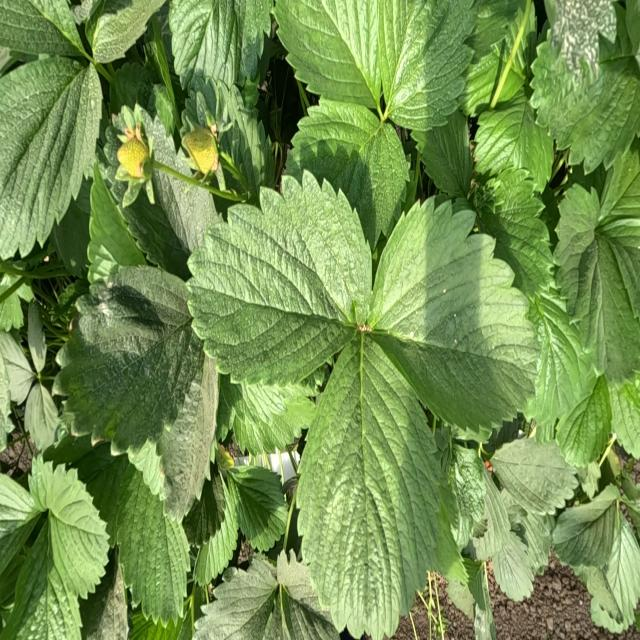Leaves: (297, 341, 441, 639), (188, 171, 372, 385), (373, 199, 535, 428), (56, 266, 204, 453), (0, 56, 102, 259), (283, 100, 409, 252), (531, 26, 640, 174), (128, 358, 218, 520), (378, 0, 476, 132), (275, 0, 381, 108), (29, 457, 109, 599), (117, 471, 190, 623), (121, 169, 219, 279), (569, 232, 640, 381), (2, 517, 81, 639), (478, 172, 552, 298), (474, 89, 553, 200), (576, 500, 640, 633), (193, 556, 276, 639), (491, 438, 578, 514), (169, 0, 244, 88), (553, 485, 624, 569), (413, 109, 473, 197), (226, 466, 288, 550), (197, 480, 239, 585), (0, 473, 41, 574), (554, 185, 599, 267), (473, 469, 513, 560), (508, 502, 554, 574), (183, 472, 225, 546), (492, 529, 534, 601), (0, 332, 35, 404), (24, 384, 59, 450), (151, 121, 181, 168), (28, 301, 47, 373)
Strawberries: (182, 127, 218, 175), (117, 126, 149, 179)
